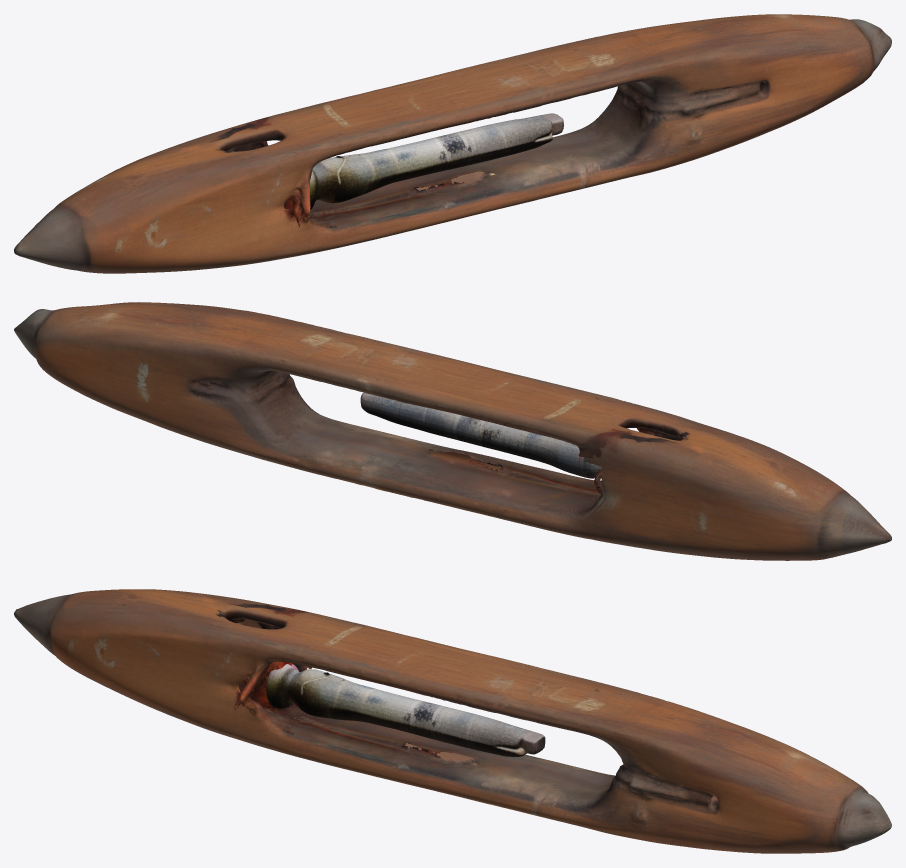
The model's file is maku.glb.
The picture shows the model from 3 angles, top to bottom: view 1: azimuth 30°, elevation 25°; view 2: azimuth 150°, elevation 25°; view 3: azimuth 330°, elevation 25°; orthographic projection.
Parts seen in each view (by area): view 1: Mesh_0; view 2: Mesh_0; view 3: Mesh_0.
Boxes of the visible parts, left/top/right/bottom form: Mesh_0: left=14, top=14, right=891, bottom=273; Mesh_0: left=14, top=302, right=891, bottom=560; Mesh_0: left=14, top=589, right=891, bottom=853.
Bounding box in the file's own units: 19.31 × 2.33 × 2.29.
2 materials, 2 textured.
